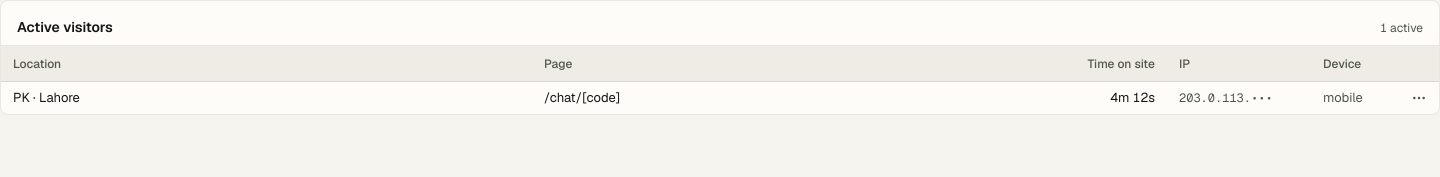
LiveVisitorsTable › masked IPs never offer a block
What coordinates should you click on to do the following:
click the button named "Actions for"
I would click on:
 (1419, 98)
Its box is [1403, 82, 1435, 114].
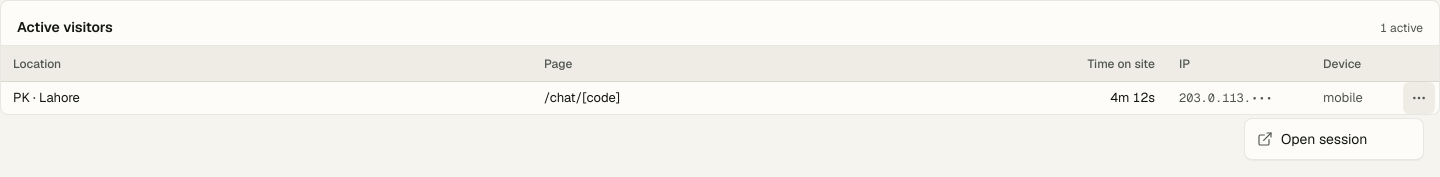
Expected: the menu item "Open session" is shown, [1257, 130, 1367, 148]
